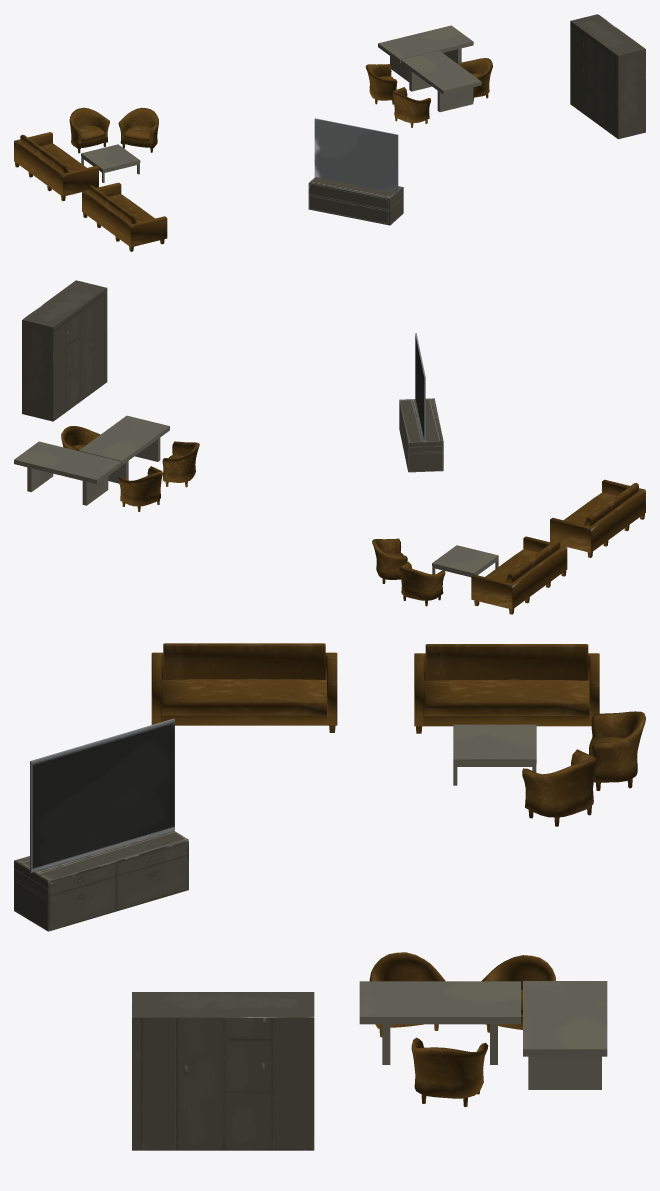
The model's file is boss2.FBX.
3 renders of one model, top to bottom at view 1: azimuth 30°, elevation 25°; view 2: azimuth 150°, elevation 25°; view 3: azimuth 270°, elevation 25°, orthographic. The views are drawn at different scales.
Visible parts, largest first — view 1: Object098; view 2: Object098; view 3: Object098.
Part boxes in pixels (x1,y1,x2,y2): Object098: [14, 14, 645, 251]; Object098: [14, 280, 645, 614]; Object098: [14, 643, 645, 1150].
Size of the model in its own units: 1534 by 246 by 864.
Materials: 1 (1 with a texture image).
